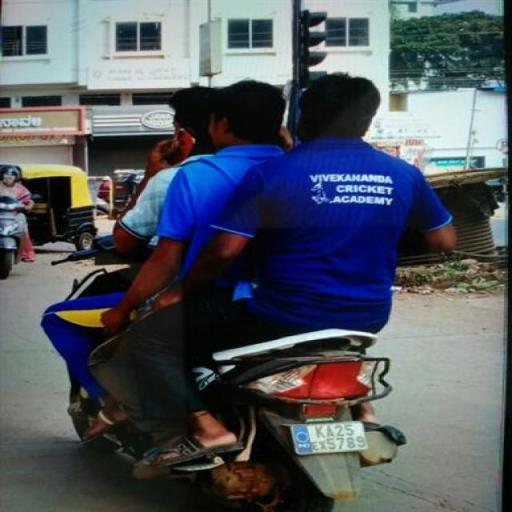using mobile: (155, 113, 204, 176)
